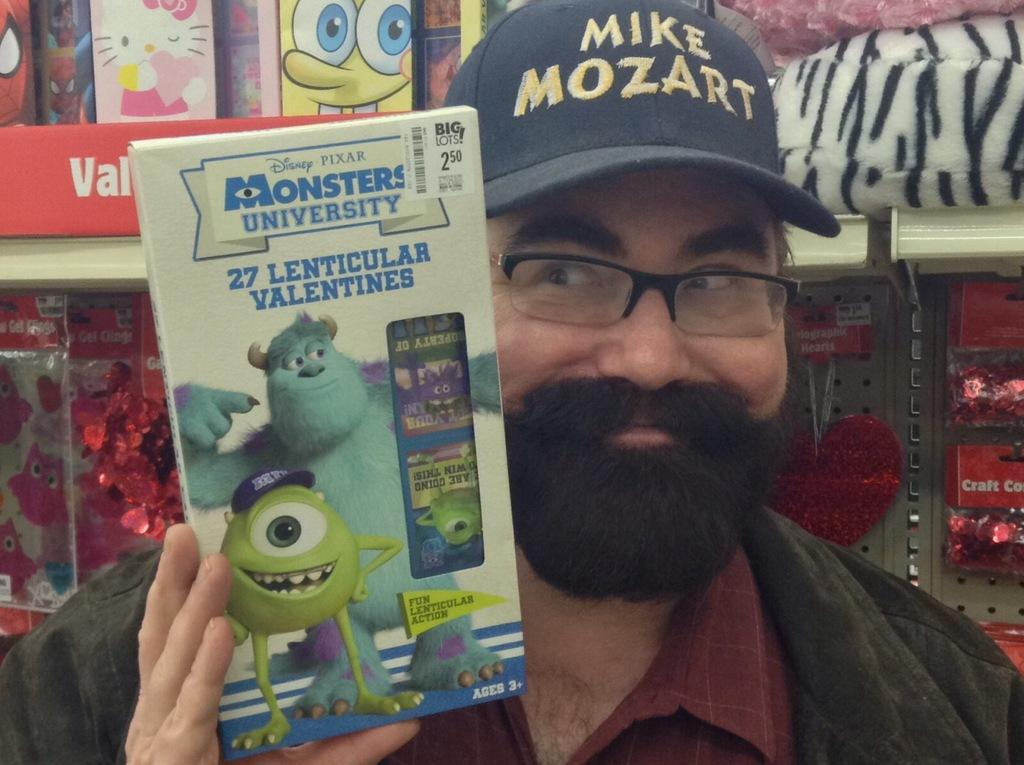Hat: (438, 0, 840, 240)
